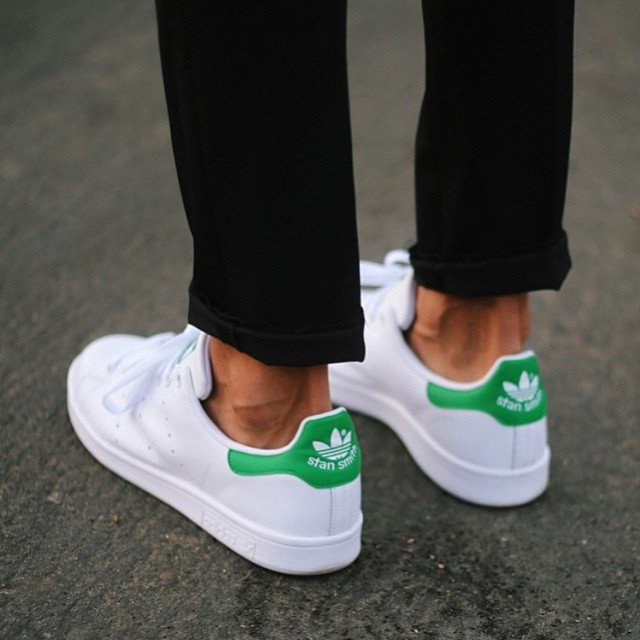sneaker: (34, 263, 380, 595), (311, 227, 582, 532)
